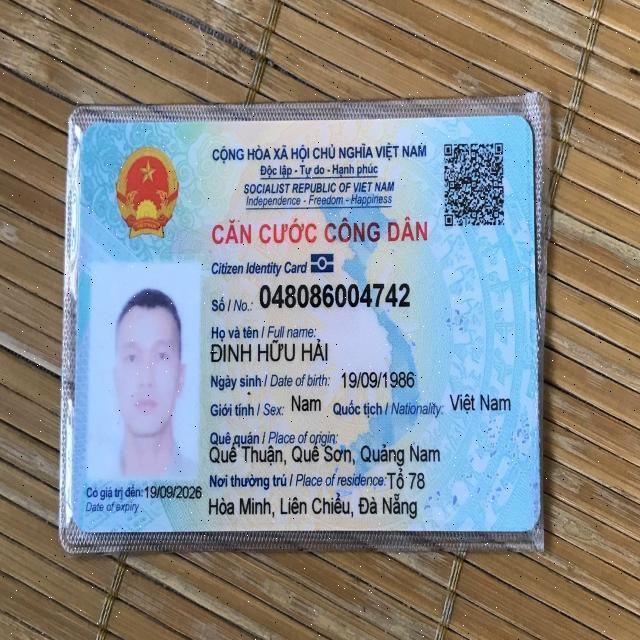current_place: (207, 491, 420, 521), (387, 465, 427, 492)
dob: (339, 371, 413, 391)
expire_date: (145, 479, 203, 504)
gender: (290, 387, 331, 417)
id: (257, 277, 414, 308)
name: (208, 338, 337, 363)
nationality: (448, 385, 512, 421)
origin_place: (211, 442, 445, 468)
